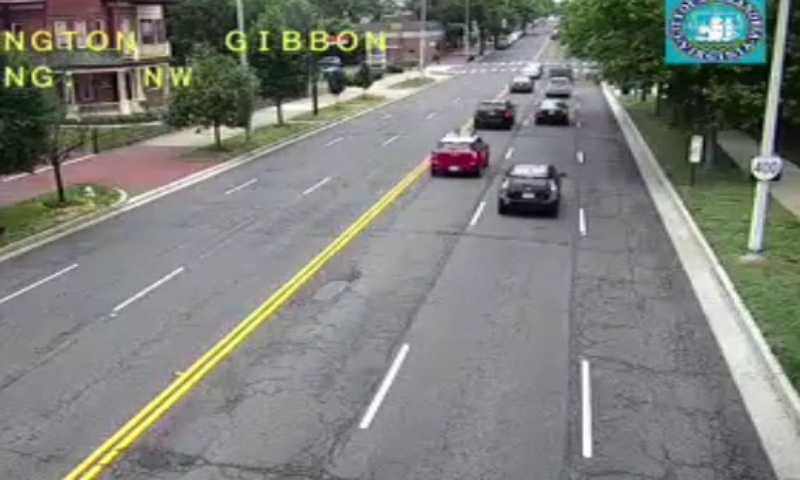car: (498, 164, 560, 211), (429, 134, 490, 176), (476, 100, 513, 128), (535, 98, 568, 124)
